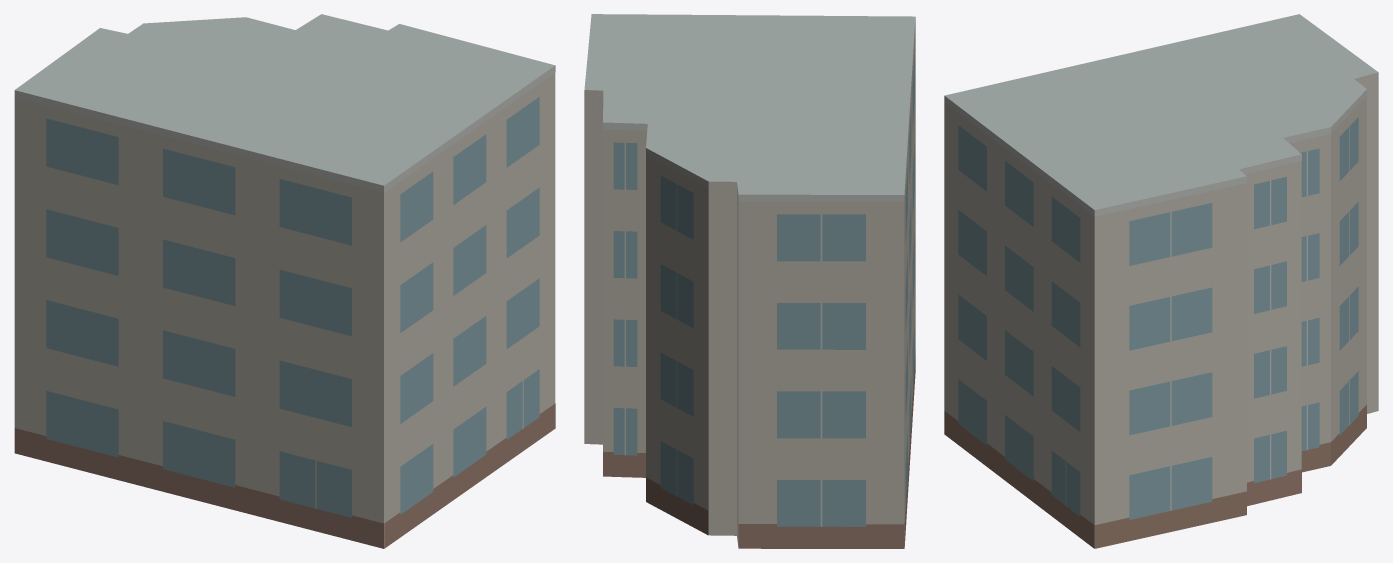
Rendered from survey-upis-32905939.glb.
3 renders of one model, left to right at view 1: azimuth 30°, elevation 25°; view 2: azimuth 150°, elevation 25°; view 3: azimuth 270°, elevation 25°, orthographic. The views are drawn at different scales.
Visible parts, largest first — view 1: survey-upis-32905939.tmp; view 2: survey-upis-32905939.tmp; view 3: survey-upis-32905939.tmp.
Boxes of the visible parts, box(x1,y1,x2,y2) form: survey-upis-32905939.tmp: box(14, 14, 555, 548); survey-upis-32905939.tmp: box(584, 14, 915, 548); survey-upis-32905939.tmp: box(944, 14, 1378, 548).
Size of the model in its own units: 15.41 by 12.4 by 14.41.
